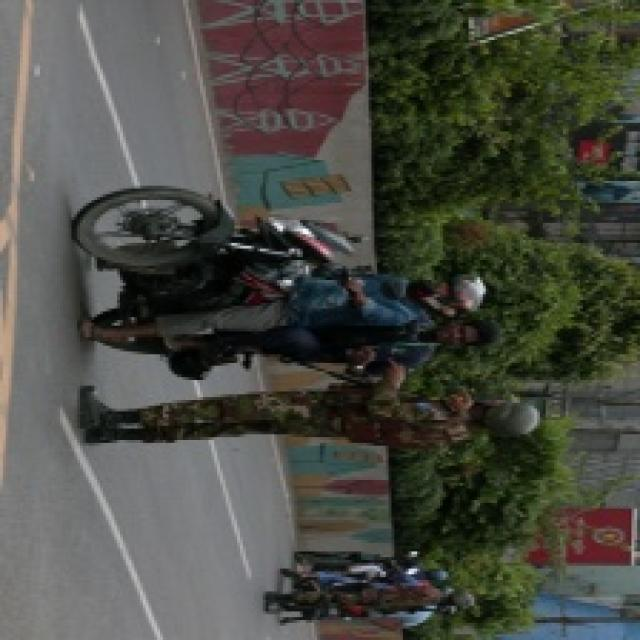bike: (81, 204, 383, 368)
